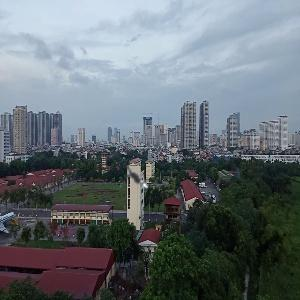drone: (72, 117, 208, 253)
